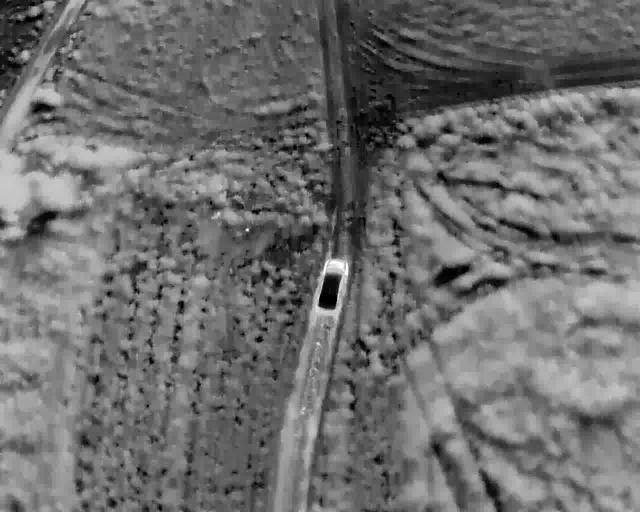car: (315, 258, 349, 314)
